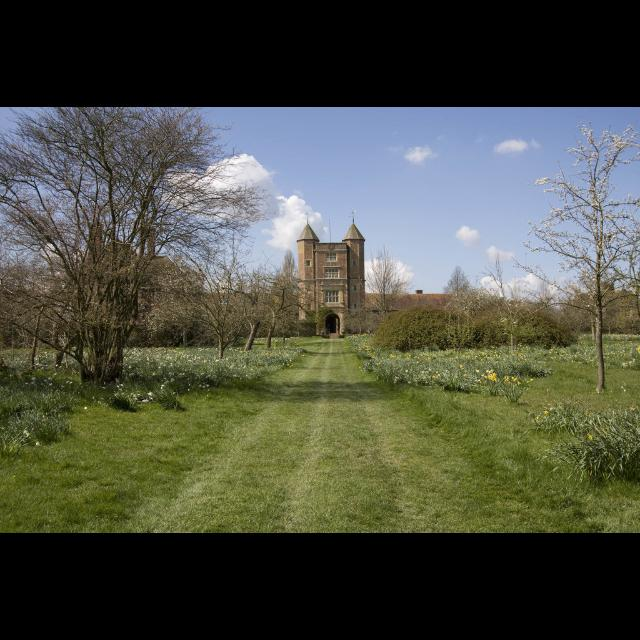Flower: (3, 348, 298, 404), (358, 334, 640, 386), (543, 410, 551, 416), (588, 435, 596, 441)
